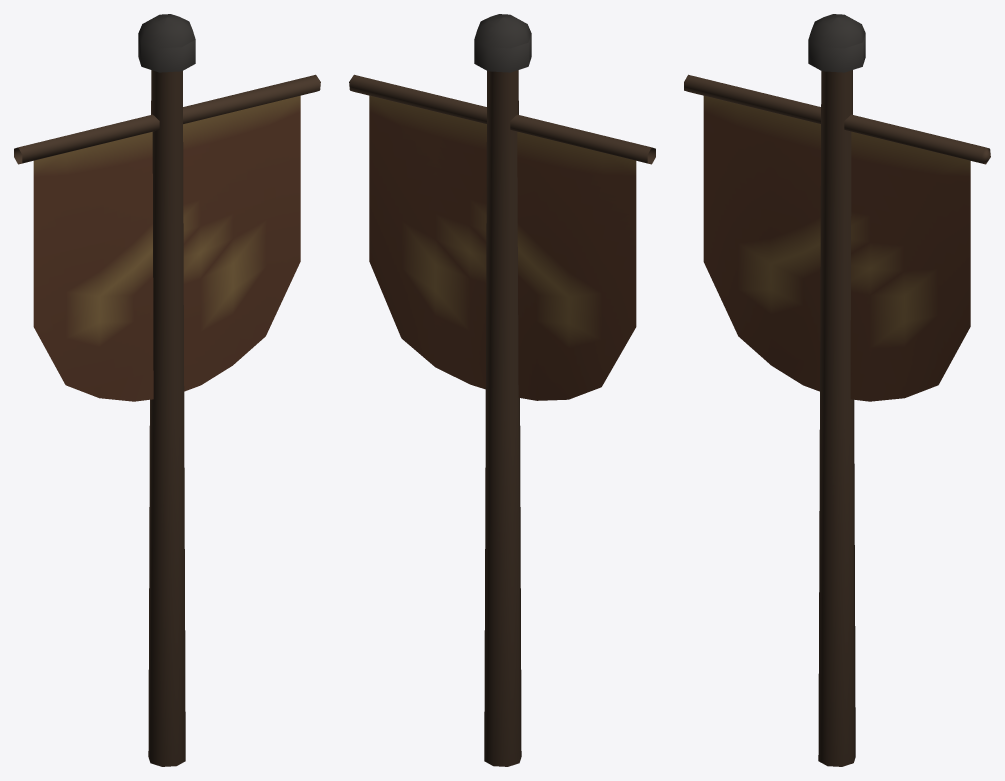
Rendered from banner_serenade.glb.
3 views of the same model, side by side, from view 1: azimuth 30°, elevation 25°; view 2: azimuth 150°, elevation 25°; view 3: azimuth 330°, elevation 25° (orthographic).
Visible parts, largest first — view 1: banner_serenade; view 2: banner_serenade; view 3: banner_serenade.
Part boxes in pixels (box(x1,y1,x2,y2)): banner_serenade: box(14, 14, 320, 766); banner_serenade: box(349, 14, 655, 766); banner_serenade: box(684, 14, 990, 766).
Bounding box in the file's own units: 1.18 × 2.76 × 0.2.
